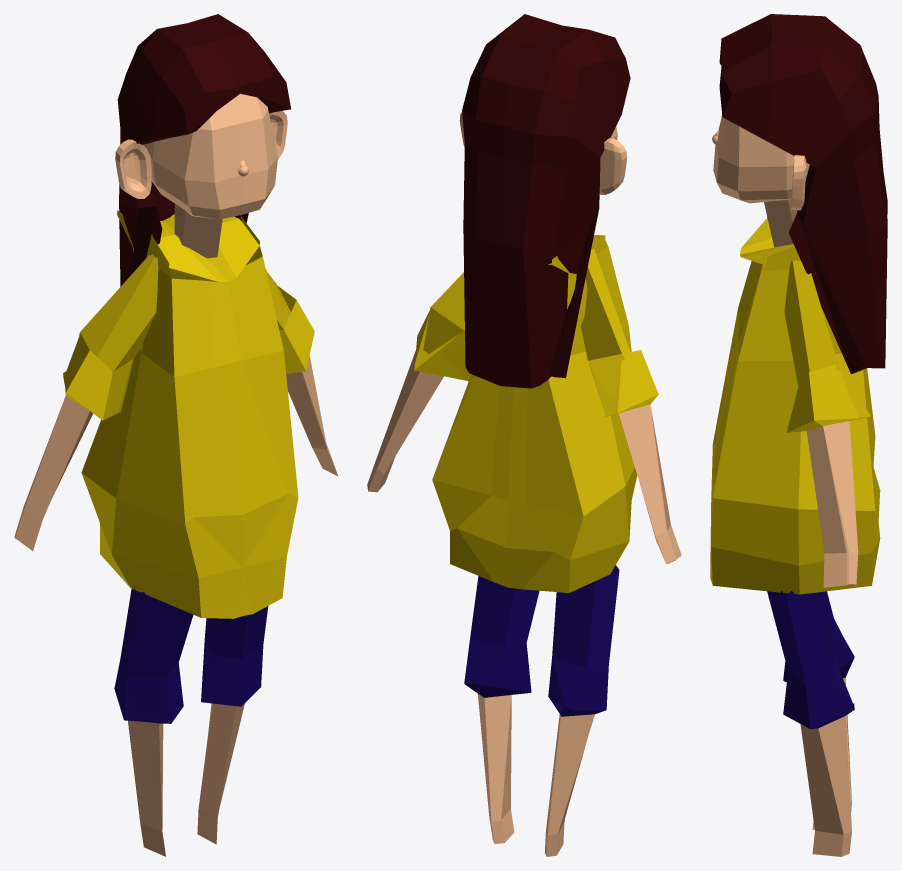
The model's file is girllowpoly.fbx.
3 views of the same model, side by side, from view 1: azimuth 30°, elevation 25°; view 2: azimuth 150°, elevation 25°; view 3: azimuth 270°, elevation 25° (orthographic). The views are drawn at different scales.
Visible parts, largest first — view 1: Cube, Cylinder, Cube.003, Cylinder.001, Cube.001, Cube.002, Cylinder.002; view 2: Cube.003, Cube, Cylinder, Cylinder.001, Cube.002; view 3: Cube.003, Cube, Cylinder, Cylinder.001, Cube.001, Cylinder.002, Cube.002.
Part boxes in pixels (x1,y1,x2,y2): Cube: (81,210,298,618); Cylinder: (114,587,268,856); Cube.003: (117,14,290,286); Cylinder.001: (14,254,338,550); Cube.001: (142,94,277,219); Cube.002: (115,111,287,198); Cylinder.002: (174,204,222,258); Cube.003: (462,14,630,388); Cube: (432,235,637,592); Cylinder: (464,565,619,856); Cylinder.001: (367,247,681,564); Cube.002: (459,111,627,194); Cube.003: (719,14,887,374); Cube: (710,216,880,594); Cylinder: (767,590,854,856); Cylinder.001: (784,260,870,587); Cube.001: (713,114,809,203); Cylinder.002: (764,199,797,247); Cube.002: (791,155,806,210).
Size of the model in its own units: 168 by 417 by 82.38.
